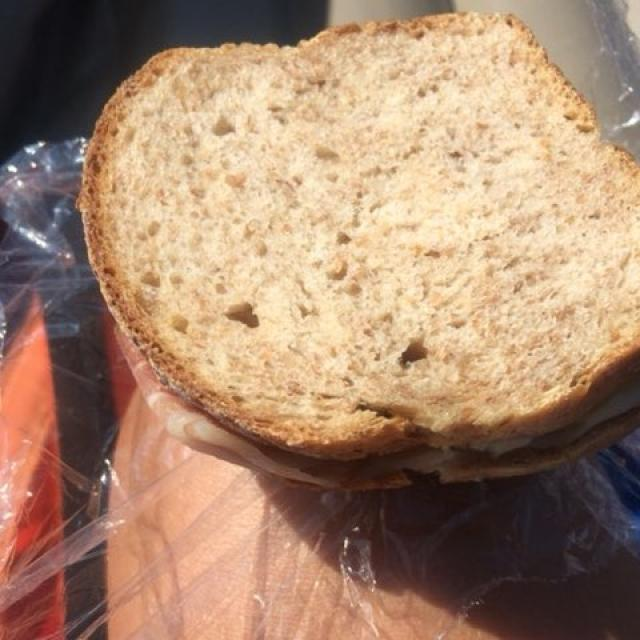Bread: (73, 5, 640, 465)
